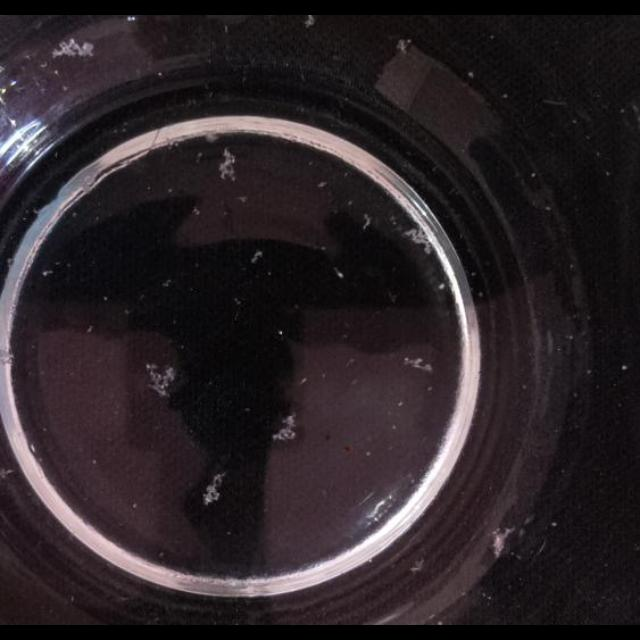Fibre: (144, 362, 178, 398), (200, 468, 227, 504), (51, 36, 93, 59), (492, 524, 516, 558), (271, 413, 297, 442), (217, 148, 237, 182), (402, 356, 433, 374), (329, 264, 348, 280), (396, 38, 410, 52), (250, 250, 262, 264), (362, 214, 372, 230), (304, 15, 314, 28)
Fragment: (408, 218, 442, 254)
microbeads: (346, 356, 356, 366), (192, 207, 202, 216), (238, 195, 248, 203), (86, 324, 94, 334), (162, 278, 172, 286), (317, 180, 327, 188), (299, 376, 307, 386), (196, 152, 204, 162), (438, 282, 446, 290), (396, 400, 404, 408), (158, 550, 166, 558), (42, 270, 52, 276), (30, 442, 36, 452), (468, 70, 474, 78), (92, 458, 98, 466), (132, 502, 138, 510), (391, 423, 397, 431), (620, 364, 628, 370), (365, 449, 371, 456), (531, 171, 537, 177), (545, 205, 551, 211), (502, 92, 508, 98), (552, 521, 558, 527), (605, 171, 611, 177), (277, 329, 283, 335), (478, 292, 484, 298)
